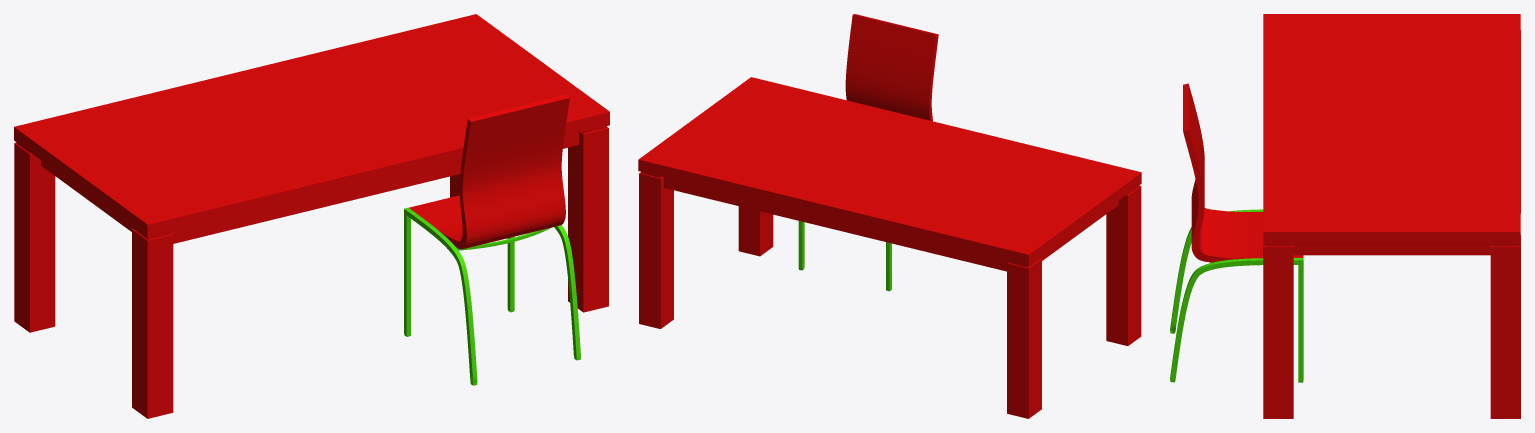
Rendered from Desk.fbx.
3 renders of one model, left to right at view 1: azimuth 30°, elevation 25°; view 2: azimuth 150°, elevation 25°; view 3: azimuth 270°, elevation 25°, orthographic. The views are drawn at different scales.
Visible parts, largest first — view 1: Table, Chair; view 2: Table, Chair; view 3: Table, Chair.
Part boxes in pixels (<box>): Table: <box>14,14,609,418</box>; Chair: <box>404,94,580,385</box>; Table: <box>638,77,1141,418</box>; Chair: <box>798,14,938,291</box>; Table: <box>1263,14,1520,418</box>; Chair: <box>1170,83,1303,382</box>.
Bounding box in the file's own units: 78.74 × 42.31 × 53.6.
